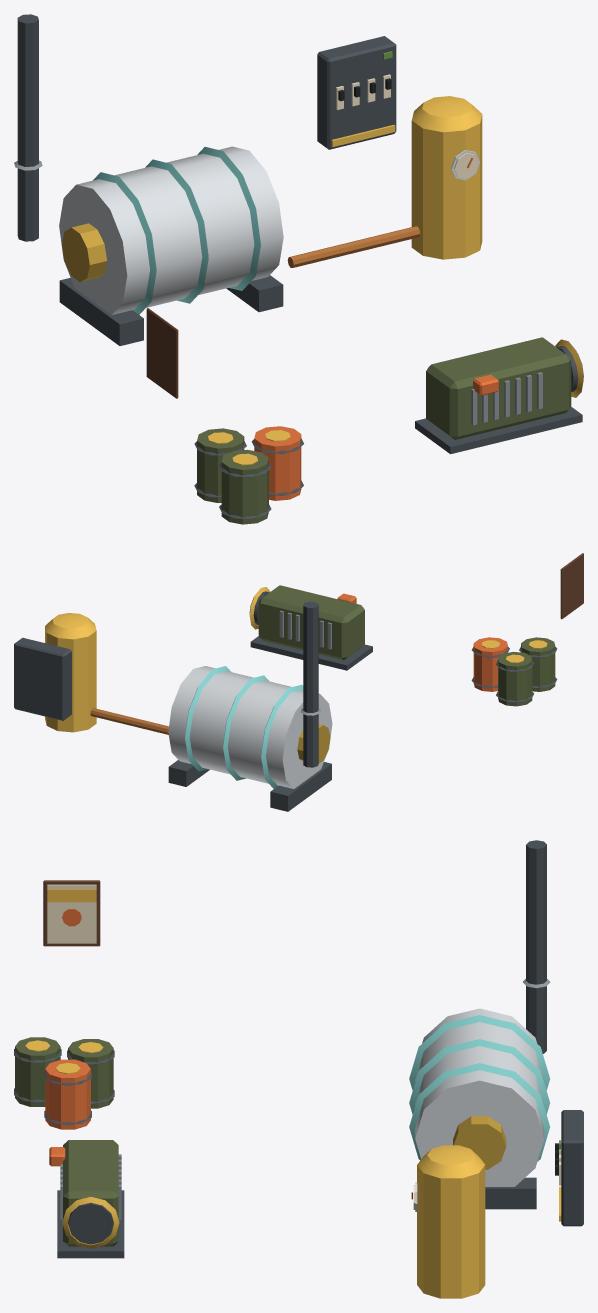
Rendered from Room_Generator_L3.fbx.
The picture shows the model from 3 angles, top to bottom: view 1: azimuth 30°, elevation 25°; view 2: azimuth 150°, elevation 25°; view 3: azimuth 270°, elevation 25°; orthographic projection. The views are drawn at different scales.
Visible parts, largest first — view 1: Decor, Turbine1, Engine1, FuelTank1, Breaker1, DecorNeon, Barrel3, Barrel2, Barrel1; view 2: Turbine1, Decor, Engine1, Breaker1, FuelTank1, DecorNeon, Barrel1, Barrel2, Barrel3; view 3: Decor, Turbine1, FuelTank1, DecorNeon, Engine1, Barrel2, Breaker1, Barrel3, Barrel1.
Boxes of the visible parts, left/top/right/bottom form: Decor: left=14, top=14, right=583, bottom=519; Turbine1: left=59, top=146, right=283, bottom=314; Engine1: left=426, top=337, right=571, bottom=439; FuelTank1: left=411, top=115, right=482, bottom=259; Breaker1: left=317, top=36, right=396, bottom=149; DecorNeon: left=93, top=51, right=392, bottom=314; Barrel3: left=221, top=449, right=268, bottom=524; Barrel2: left=254, top=426, right=301, bottom=500; Barrel1: left=197, top=428, right=244, bottom=502; Turbine1: left=168, top=666, right=332, bottom=788; Decor: left=45, top=553, right=583, bottom=811; Engine1: left=258, top=585, right=364, bottom=660; Breaker1: left=14, top=637, right=71, bottom=720; FuelTank1: left=45, top=627, right=96, bottom=732; DecorNeon: left=185, top=666, right=303, bottom=788; Barrel1: left=498, top=651, right=532, bottom=706; Barrel2: left=473, top=637, right=507, bottom=691; Barrel3: left=521, top=637, right=555, bottom=691; Decor: left=14, top=840, right=561, bottom=1258; Turbine1: left=415, top=1008, right=544, bottom=1186; FuelTank1: left=417, top=1165, right=485, bottom=1298; DecorNeon: left=409, top=1015, right=560, bottom=1161; Engine1: left=63, top=1140, right=118, bottom=1246; Barrel2: left=45, top=1059, right=90, bottom=1129; Breaker1: left=561, top=1110, right=583, bottom=1226; Barrel3: left=15, top=1037, right=60, bottom=1106; Barrel1: left=68, top=1039, right=113, bottom=1108.
Bounding box in the file's own units: 29.71 × 16 × 30.06.
